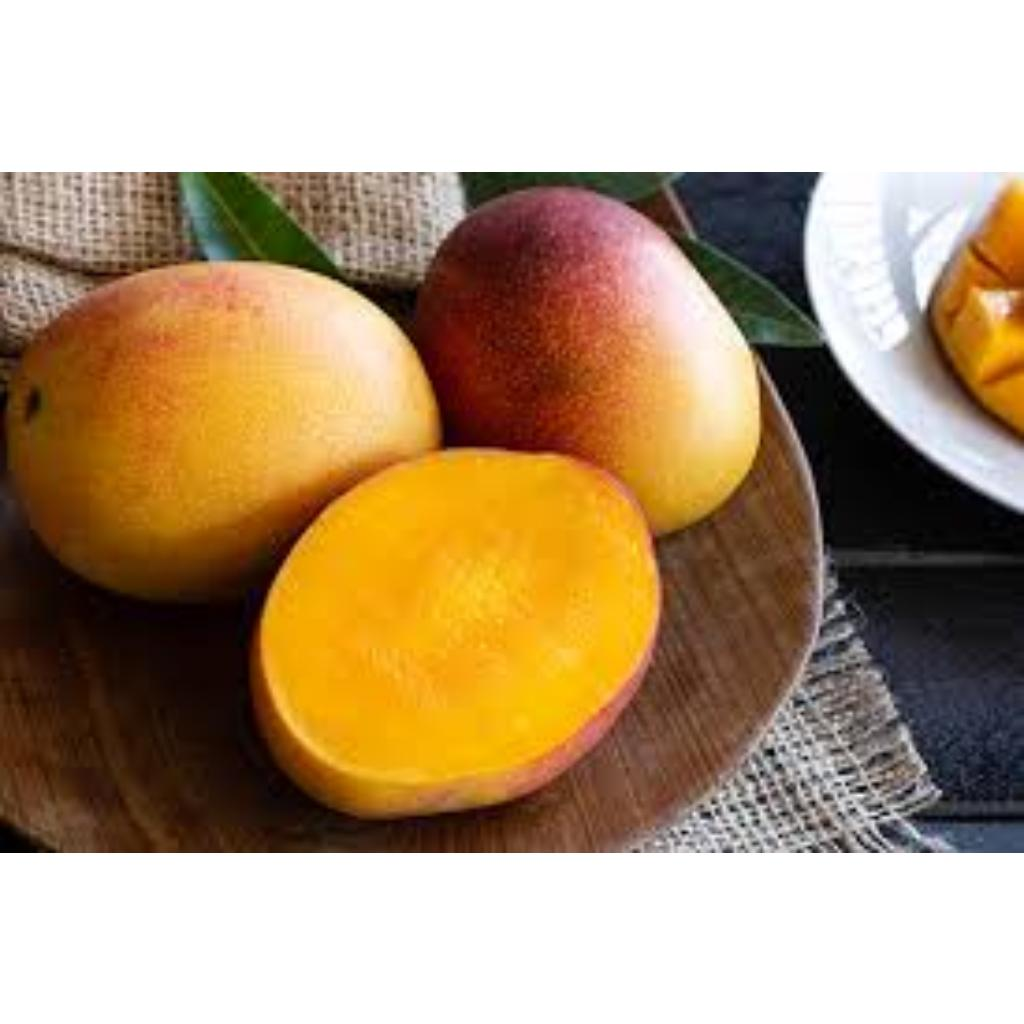mango: (249, 447, 659, 819), (8, 251, 437, 602), (411, 184, 764, 538)
